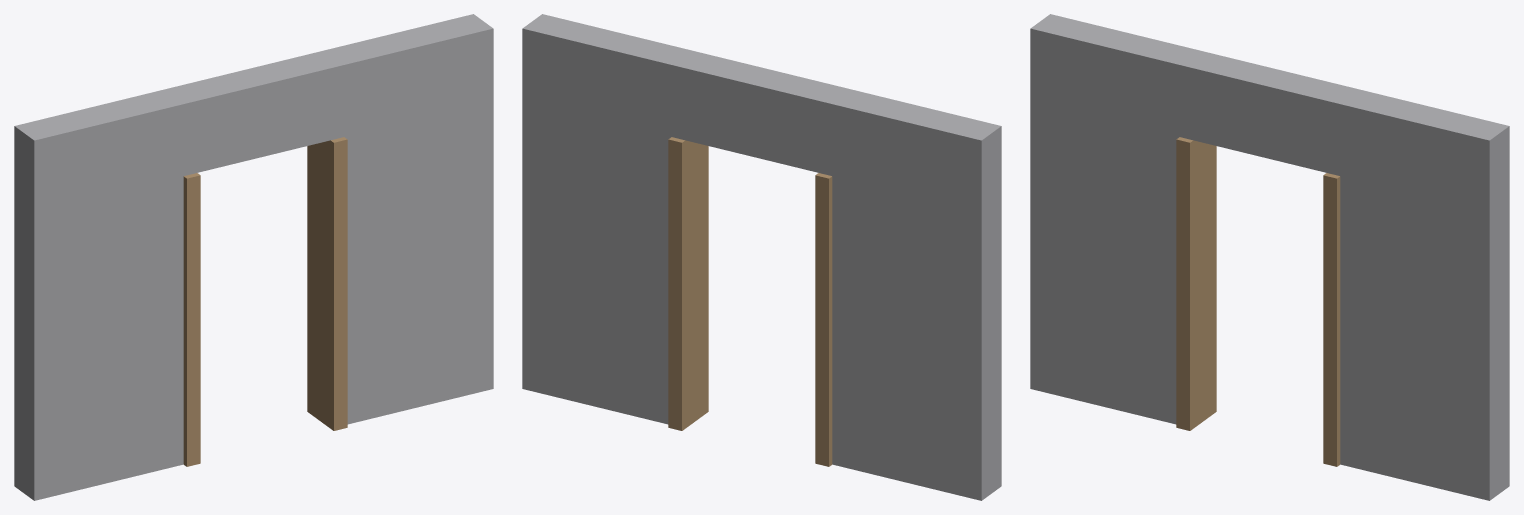
File: sm_wall_door.glb
3 views of the same model, side by side, from view 1: azimuth 30°, elevation 25°; view 2: azimuth 150°, elevation 25°; view 3: azimuth 330°, elevation 25° (orthographic).
Parts seen in each view (by area): view 1: sm_wall_door; view 2: sm_wall_door; view 3: sm_wall_door.
Boxes of the visible parts, bbox=[...] form: sm_wall_door: bbox=[14, 14, 493, 500]; sm_wall_door: bbox=[522, 14, 1001, 500]; sm_wall_door: bbox=[1030, 14, 1509, 500].
Size of the model in its own units: 4 by 3 by 0.4.
